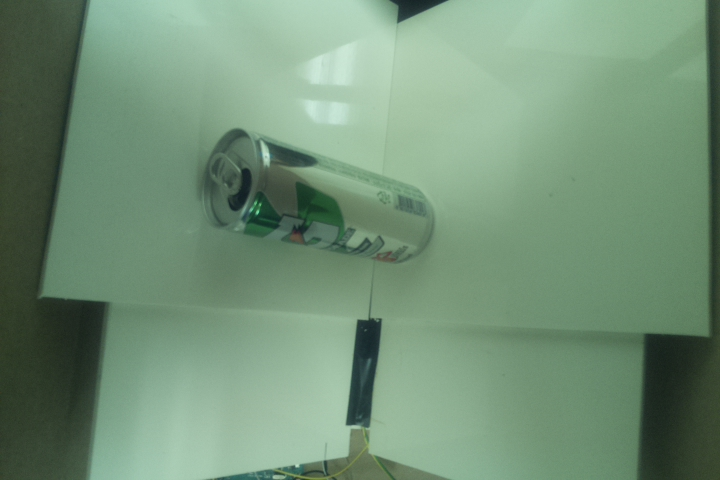can: (198, 123, 436, 265)
